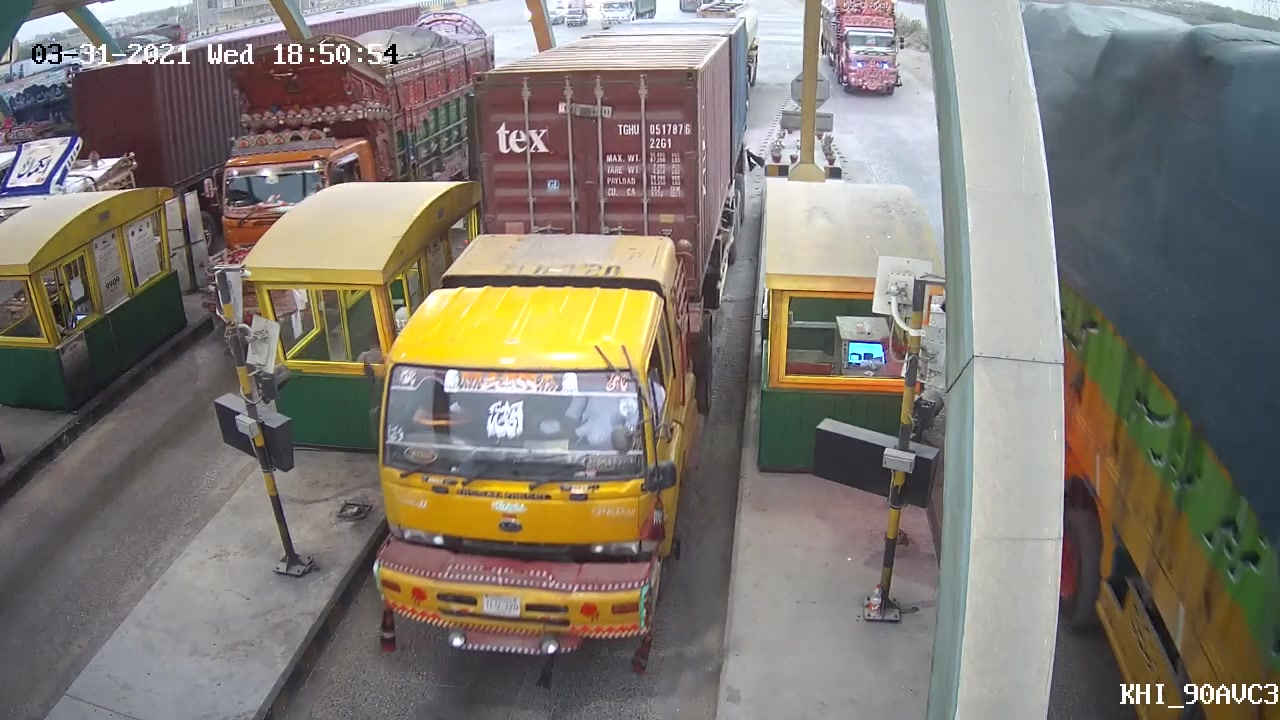F6: (374, 24, 752, 665)
